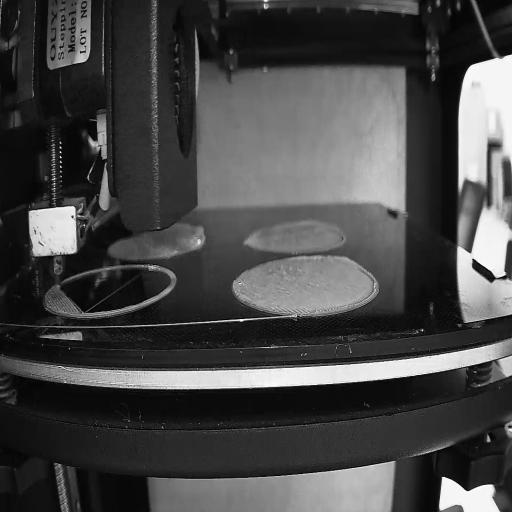over_extrusion: (356, 263, 378, 308)
